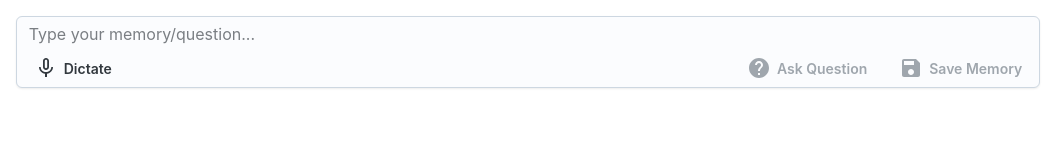
Test case: Chat › disables ask and store buttons when textbox is empty
Expected: the button "Ask Question" is disabled, [735,54,879,82]
Expected: the button "Save Memory" is disabled, [887,54,1034,82]
Step 1. Type "Test" into the text box → (534, 34), box [29,22,1039,46]
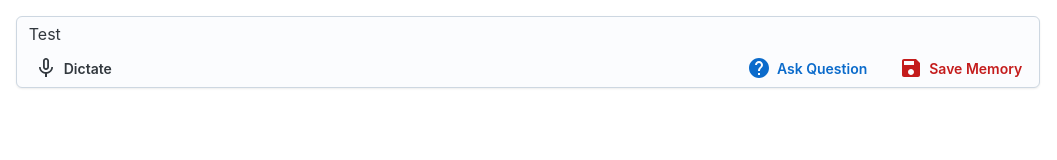
Expected: the button "Ask Question" is enabled, [735,54,879,82]
Expected: the button "Save Memory" is enabled, [887,54,1034,82]
